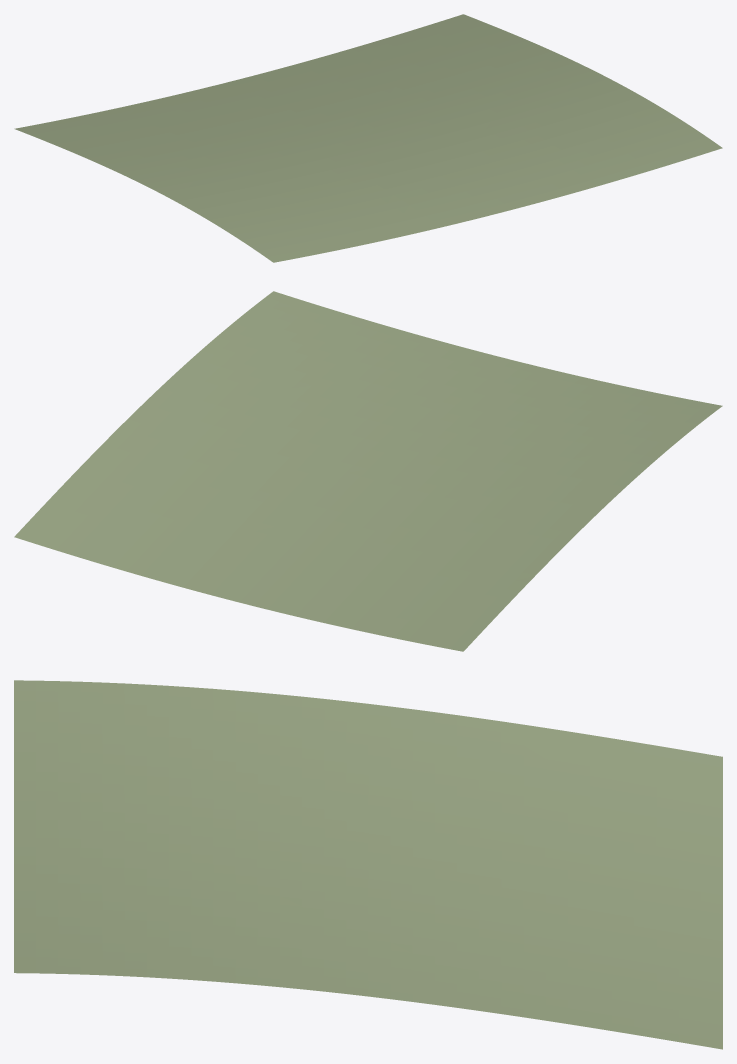
File: valley-4-14.glb
3 renders of one model, top to bottom at view 1: azimuth 30°, elevation 25°; view 2: azimuth 150°, elevation 25°; view 3: azimuth 270°, elevation 25°, orthographic. The views are drawn at different scales.
Parts seen in each view (by area): view 1: valley-4-14; view 2: valley-4-14; view 3: valley-4-14.
Part boxes in pixels (bbox=[...]): valley-4-14: bbox=[14, 14, 722, 262]; valley-4-14: bbox=[14, 291, 722, 651]; valley-4-14: bbox=[14, 680, 722, 1049].
Bounding box in the file's own units: 256 × 36.29 × 256.
